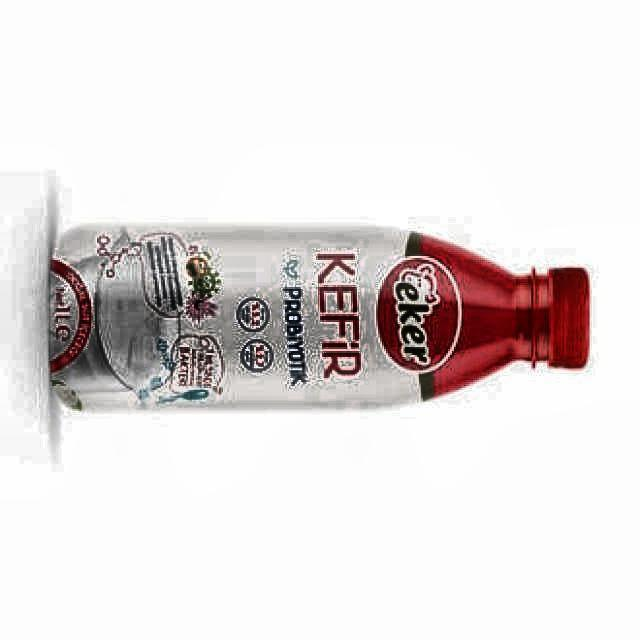plastic: (50, 224, 590, 410)
